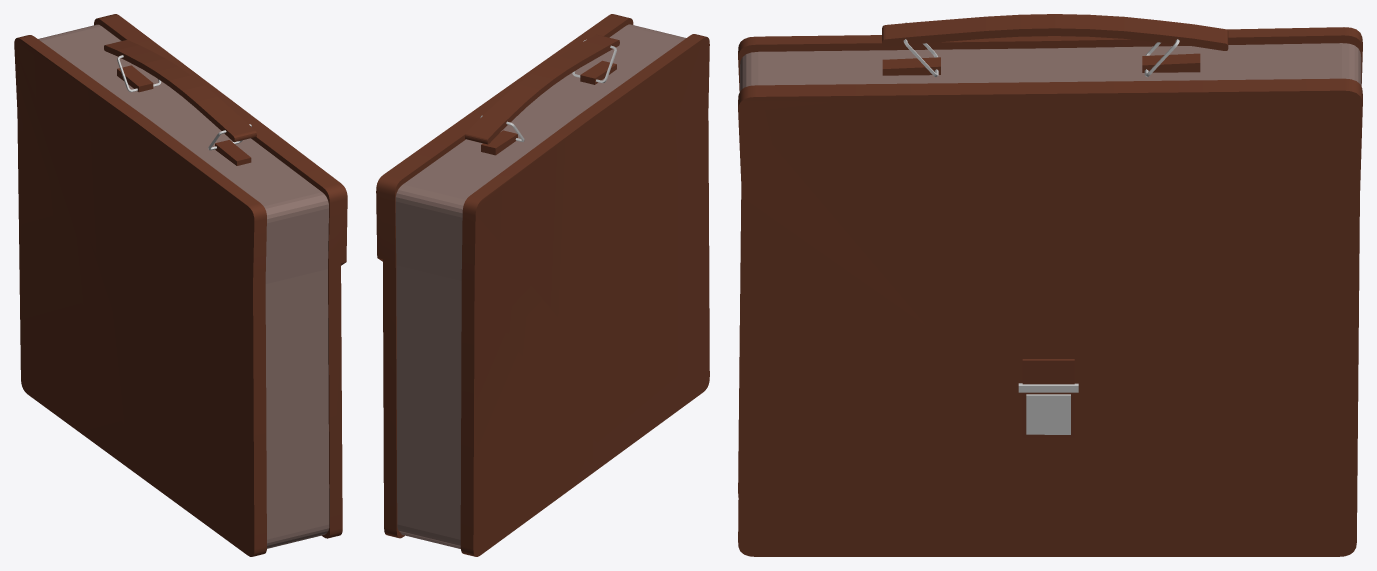
File: Briefcase.glb
The picture shows the model from 3 angles, left to right: view 1: azimuth 30°, elevation 25°; view 2: azimuth 150°, elevation 25°; view 3: azimuth 270°, elevation 25°; orthographic projection. The views are drawn at different scales.
Parts seen in each view (by area): view 1: Box017, Box015, Box013, Box016; view 2: Box017, Box015, Box013, Box016; view 3: Box017, Box015, Box018, Box020, Box013, Box016.
Boxes of the visible parts, box(x1,y1,x2,y2) form: Box017: box(14, 14, 347, 556); Box015: box(104, 40, 256, 142); Box013: box(117, 65, 153, 92); Box016: box(215, 140, 251, 165); Box017: box(376, 14, 709, 556); Box015: box(465, 34, 619, 144); Box013: box(481, 130, 517, 155); Box016: box(580, 60, 616, 84); Box017: box(738, 27, 1362, 556); Box015: box(882, 14, 1228, 50); Box018: box(1022, 359, 1074, 437); Box020: box(1026, 394, 1070, 434); Box013: box(1142, 53, 1200, 72); Box016: box(882, 57, 940, 75).
Bounding box in the file's own units: 92749 × 333452 × 371456.
